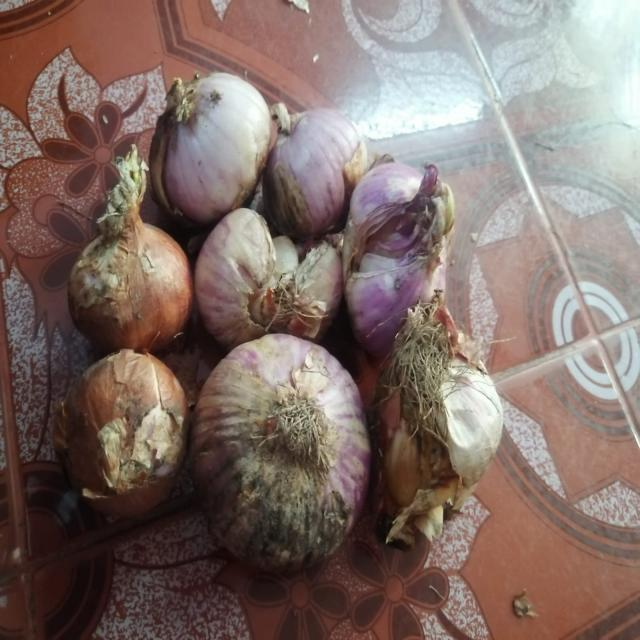rotten: (230, 472, 350, 554), (102, 420, 174, 498), (362, 213, 438, 274), (150, 80, 201, 162), (266, 230, 320, 298), (74, 247, 129, 308), (416, 438, 465, 498), (266, 170, 300, 224)
sprouting: (424, 186, 452, 266)
